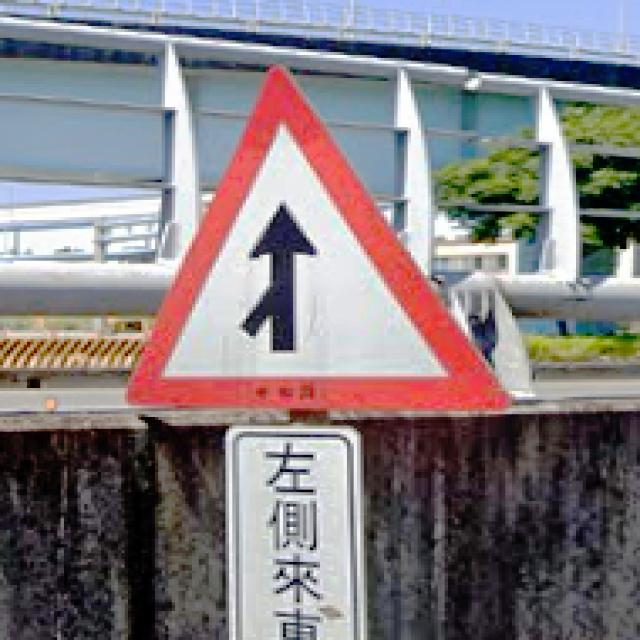leftmerge: (125, 67, 512, 414)
